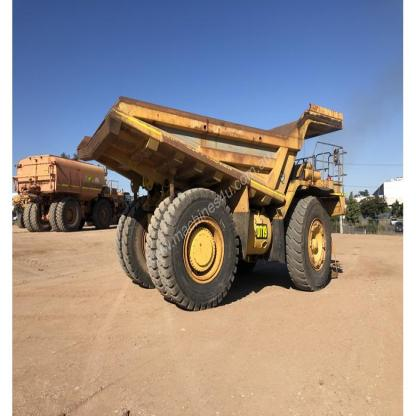dump_truck: (78, 82, 352, 308)
